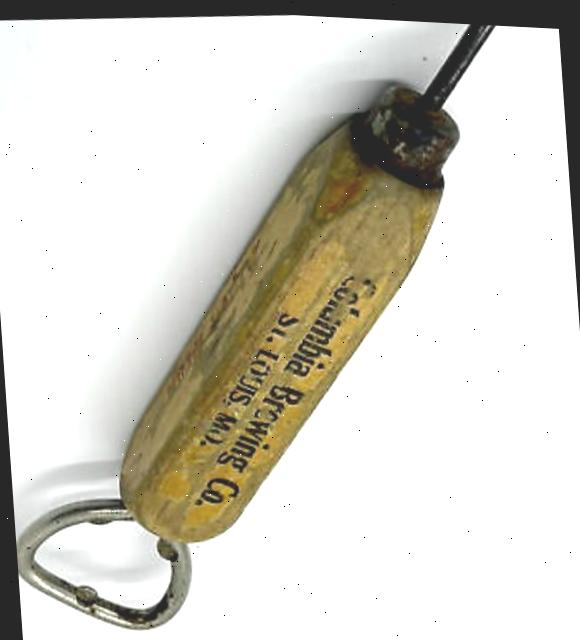ice pick: (86, 4, 577, 561)
